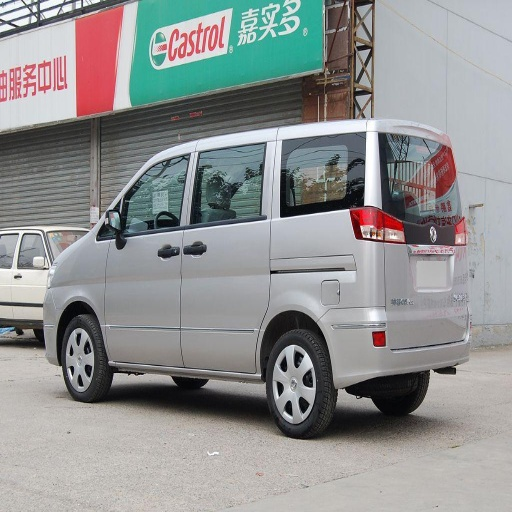back_left_door: (183, 149, 266, 361)
trunk: (228, 226, 473, 378)
